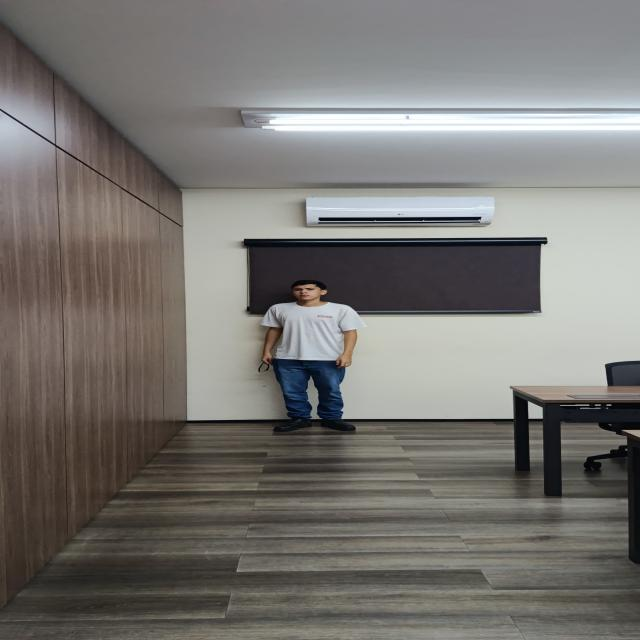sem_oculos: (291, 288, 329, 292)
